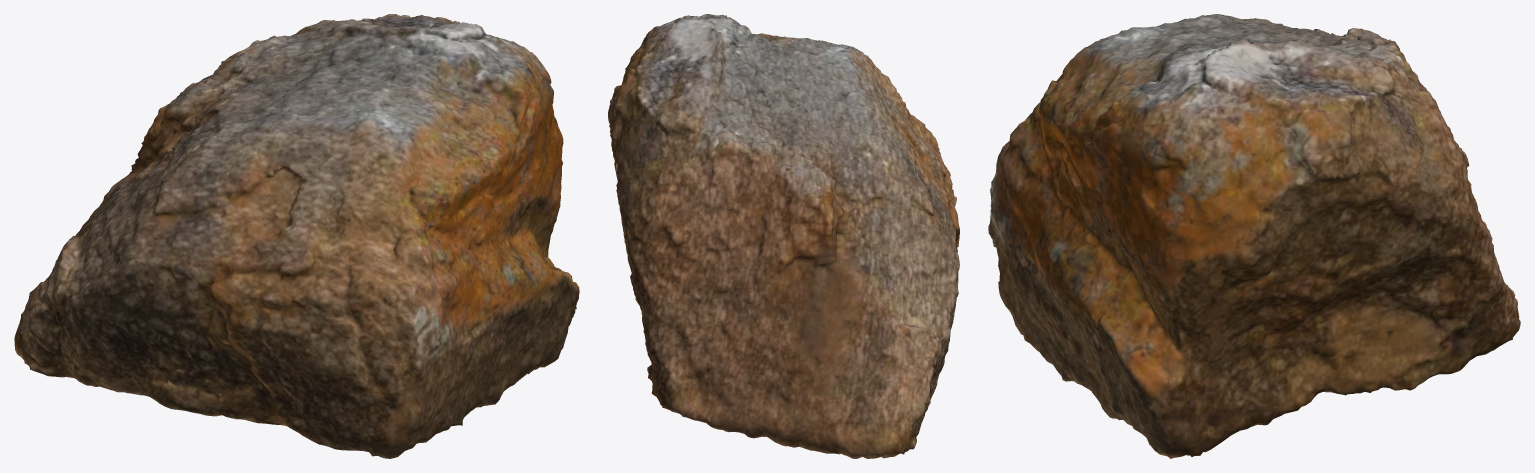
Rendered from namaqualand_boulder_04.glb.
3 views of the same model, side by side, from view 1: azimuth 30°, elevation 25°; view 2: azimuth 150°, elevation 25°; view 3: azimuth 270°, elevation 25° (orthographic). The views are drawn at different scales.
Visible parts, largest first — view 1: boulder_04; view 2: boulder_04; view 3: boulder_04.
Part boxes in pixels (left/top/right/bottom): boulder_04: left=14, top=14, right=579, bottom=458; boulder_04: left=608, top=14, right=959, bottom=458; boulder_04: left=988, top=14, right=1520, bottom=458.
Size of the model in its own units: 2.52 by 1.9 by 2.5.
Materials: 1 (1 with a texture image).
